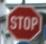Stop sign: (0, 0, 45, 43)
